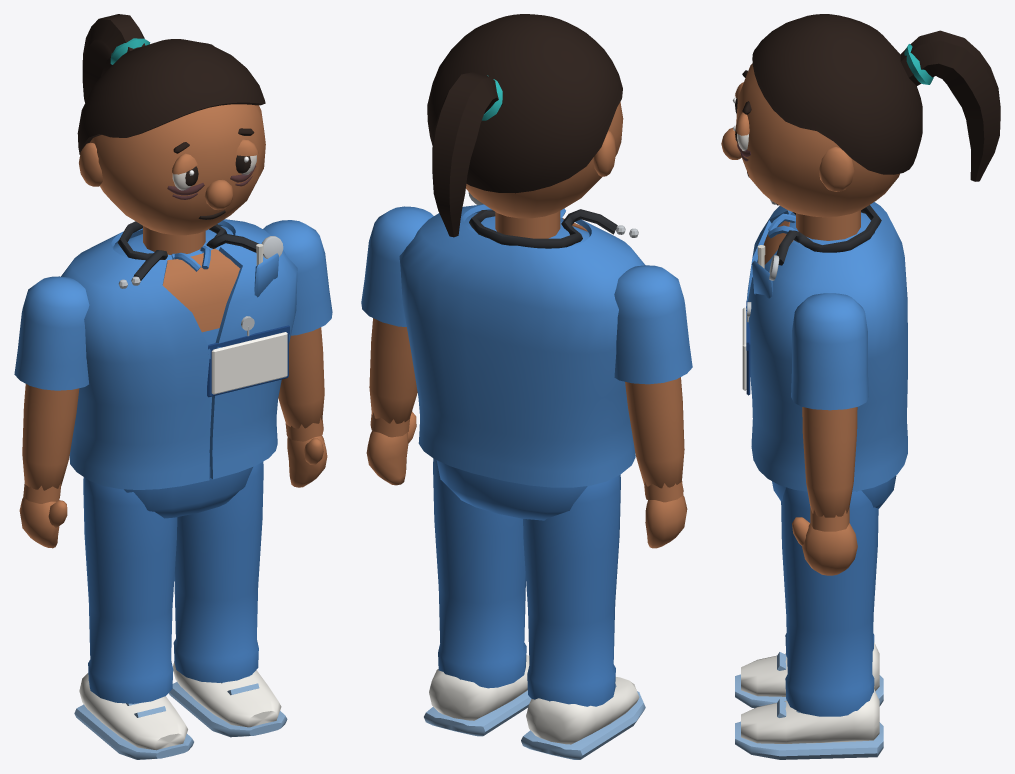
Rendered from Character_Regular_mina.fbx.
3 views of the same model, side by side, from view 1: azimuth 30°, elevation 25°; view 2: azimuth 150°, elevation 25°; view 3: azimuth 270°, elevation 25° (orthographic). The views are drawn at different scales.
Visible parts, largest first — view 1: Scrubs, LegR, Head, LegL, Hair, ArmR, ArmR_Skin, ArmL, Neck, LegR_Shoe, ArmL_Skin, Badge (+12 smaller); view 2: Scrubs, Hair, LegR, LegL, ArmR, Head, ArmR_Skin, ArmL, Hips, ArmL_Skin, LegR_Shoe, LegL_Shoe (+5 smaller); view 3: Scrubs, Hair, LegL, Head, ArmL, ArmL_Skin, LegL_Shoe, HandL, LegL_Sole, LegR_Shoe, Stethoscope, LegR_Sole (+2 smaller).
Part boxes in pixels (x1=…): Scrubs: x1=61, y1=219, x2=297, y2=489; LegR: x1=83, y1=477, x2=177, y2=703; Head: x1=79, y1=104, x2=265, y2=254; LegL: x1=173, y1=462, x2=263, y2=682; Hair: x1=77, y1=14, x2=265, y2=154; ArmR: x1=14, y1=276, x2=89, y2=390; ArmR_Skin: x1=22, y1=384, x2=79, y2=490; ArmL: x1=263, y1=220, x2=332, y2=335; Neck: x1=162, y1=248, x2=240, y2=332; LegR_Shoe: x1=79, y1=673, x2=187, y2=750; ArmL_Skin: x1=278, y1=327, x2=324, y2=428; Badge: x1=211, y1=332, x2=287, y2=394; Scrubs: x1=399, y1=204, x2=645, y2=487; Hair: x1=427, y1=14, x2=622, y2=237; LegR: x1=523, y1=475, x2=620, y2=706; LegL: x1=433, y1=458, x2=526, y2=688; ArmR: x1=614, y1=265, x2=692, y2=384; Head: x1=466, y1=102, x2=623, y2=238; ArmR_Skin: x1=625, y1=377, x2=684, y2=488; ArmL: x1=361, y1=206, x2=433, y2=326; Hips: x1=436, y1=460, x2=587, y2=520; ArmL_Skin: x1=369, y1=318, x2=417, y2=423; LegR_Shoe: x1=526, y1=677, x2=639, y2=744; LegL_Shoe: x1=429, y1=655, x2=529, y2=720; Scrubs: x1=746, y1=202, x2=907, y2=491; Hair: x1=752, y1=14, x2=1000, y2=181; LegL: x1=781, y1=487, x2=878, y2=716; Head: x1=721, y1=63, x2=899, y2=240; ArmL: x1=791, y1=293, x2=868, y2=410; ArmL_Skin: x1=802, y1=407, x2=857, y2=517; LegL_Shoe: x1=741, y1=689, x2=879, y2=743; HandL: x1=792, y1=507, x2=857, y2=575; LegL_Sole: x1=735, y1=699, x2=883, y2=759; LegR_Shoe: x1=741, y1=642, x2=879, y2=696; Stethoscope: x1=776, y1=203, x2=881, y2=265; LegR_Sole: x1=735, y1=652, x2=883, y2=708.
Size of the model in its own units: 244 by 511 by 185.
